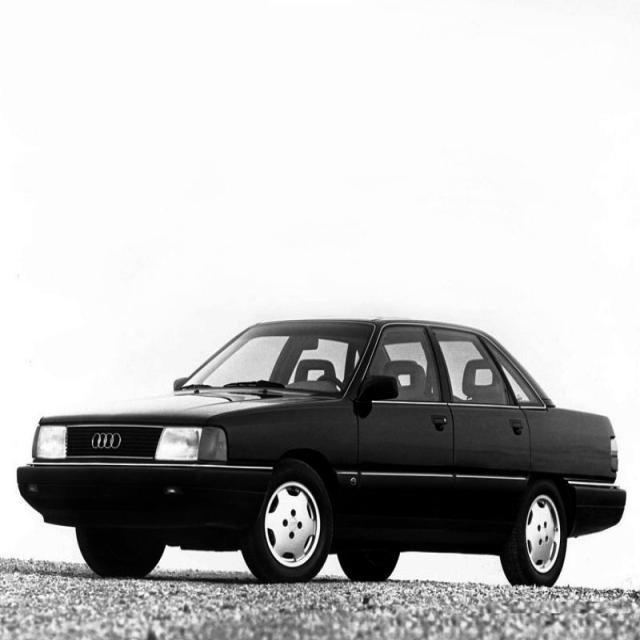car: (16, 316, 626, 586)
